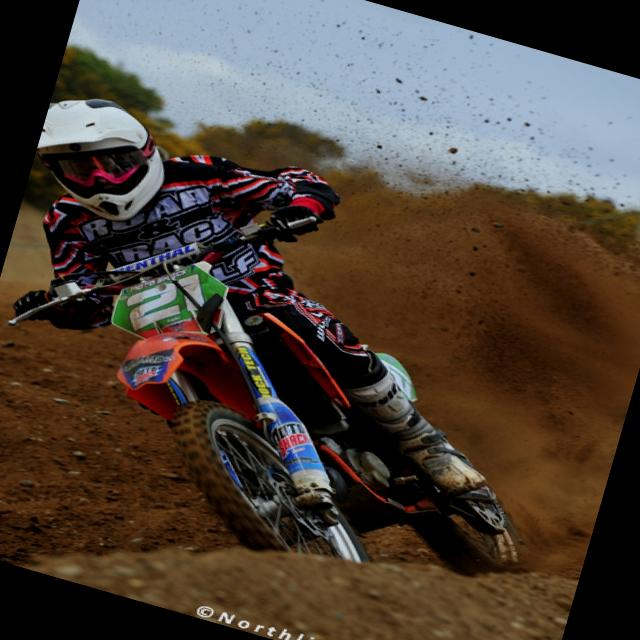Vehicle: (0, 141, 592, 622)
